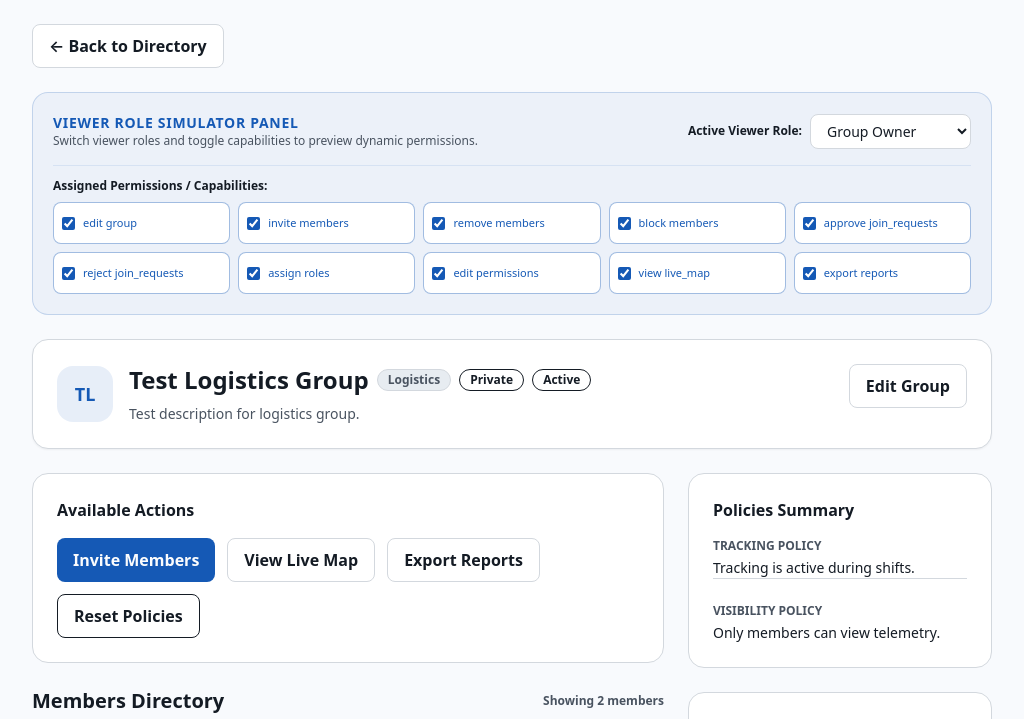
Test: GroupDetailsPage › presents restricted read-only view for Guest with no action buttons
Select "Group Guest" in the dropdown labelled "Active Viewer Role:". click: (890, 131)
box: [810, 114, 971, 148]
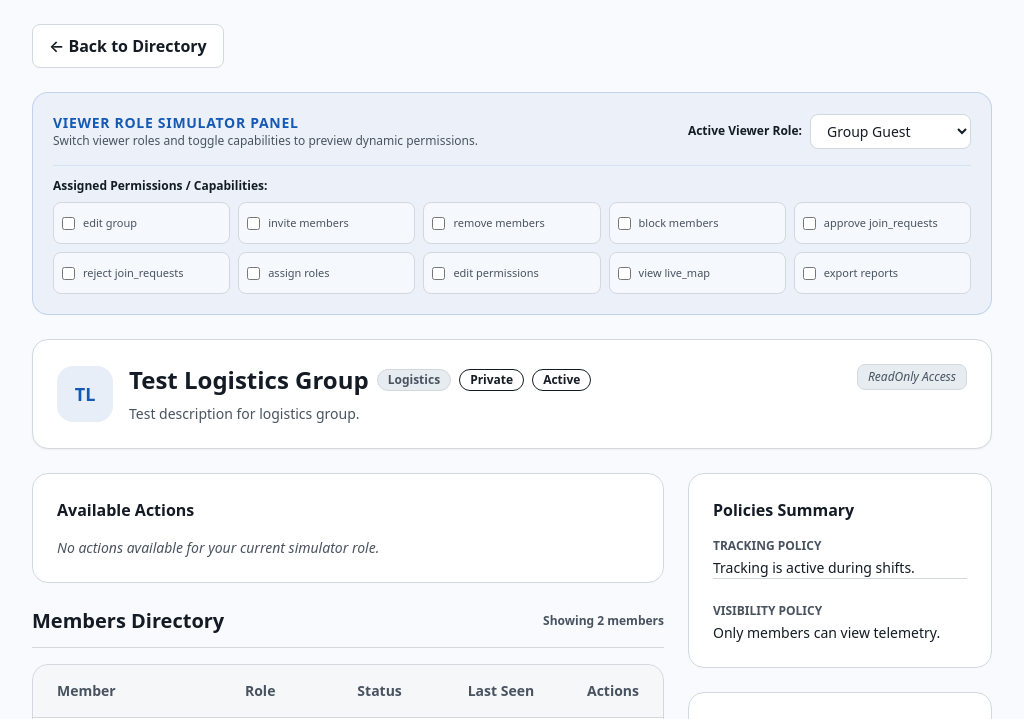
Check: the text "No actions available for your current simulator role." is shown, box [57, 538, 379, 558]
